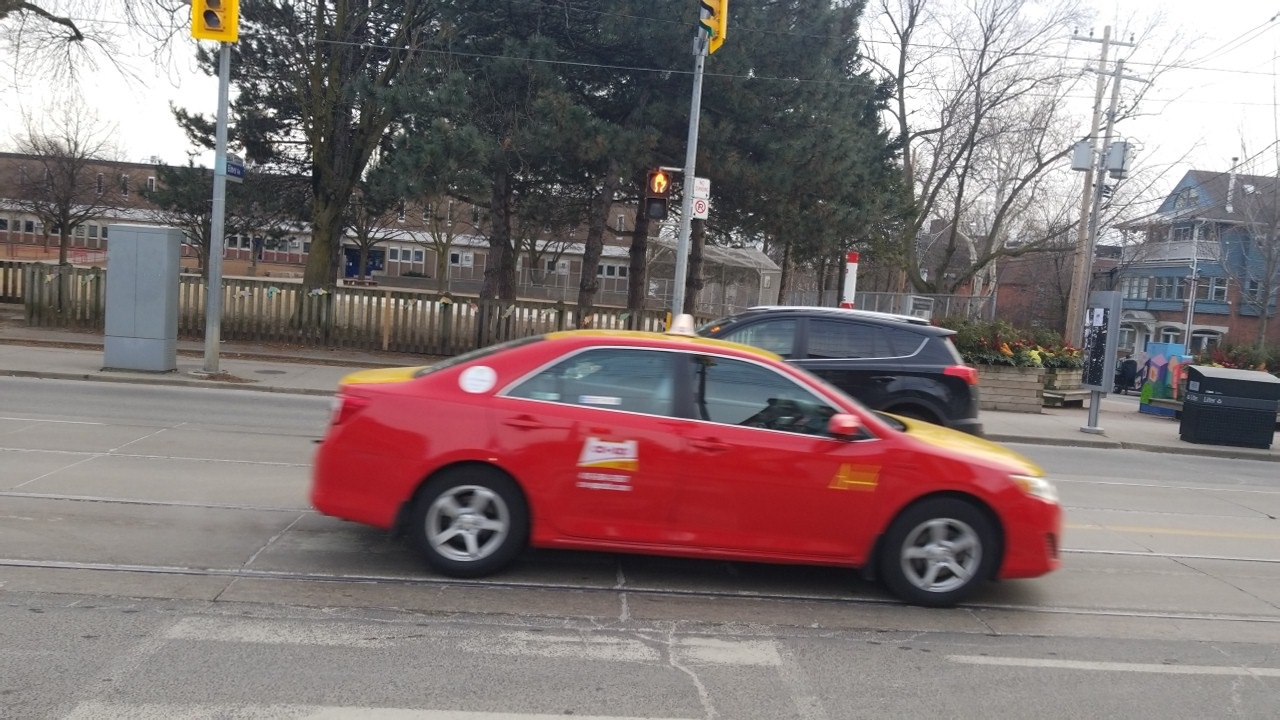light: (644, 167, 670, 221)
